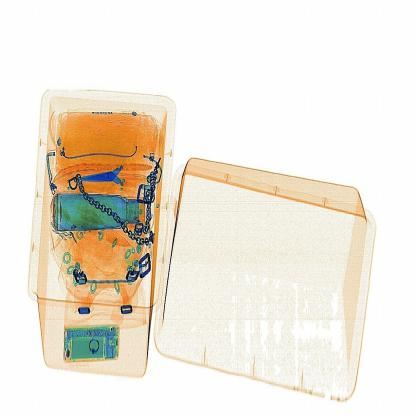gun: (77, 150, 151, 200)
